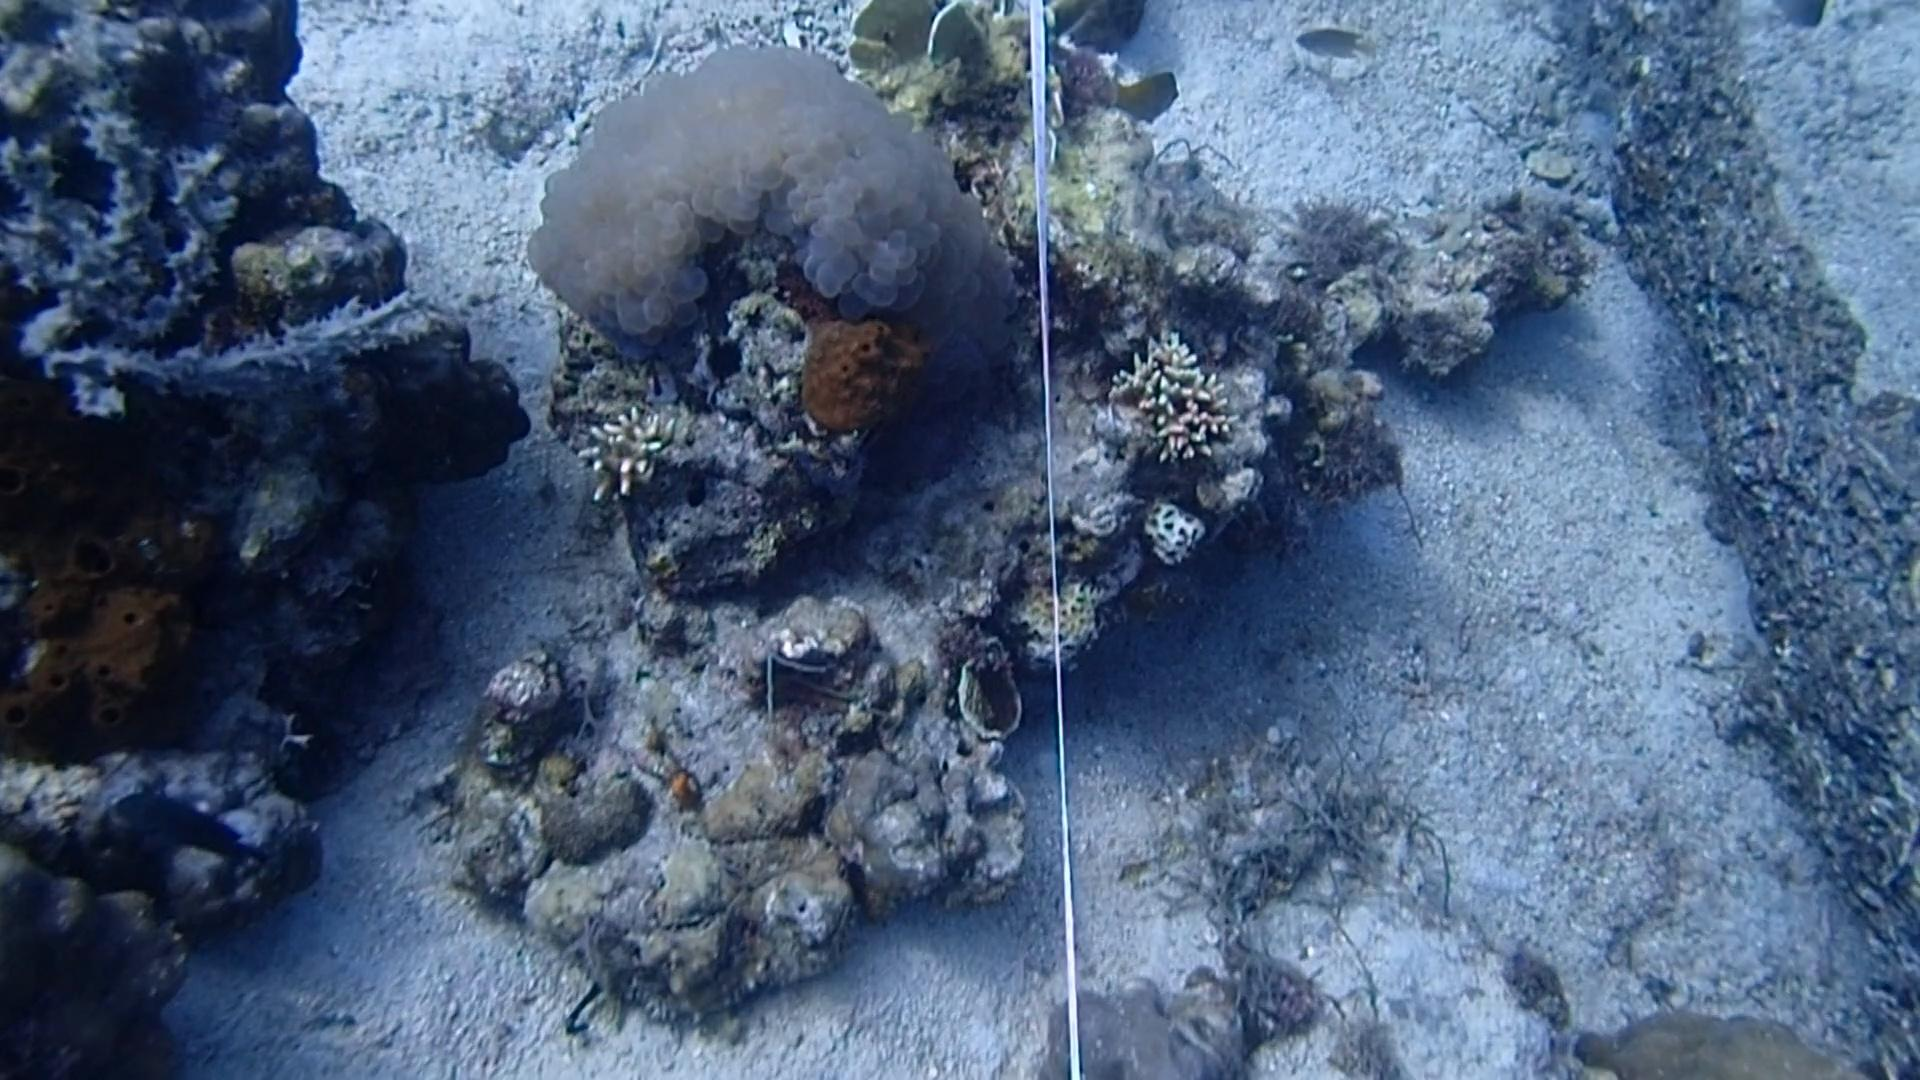Big Dark Blue Fish: (107, 765, 268, 866)
Light Fish: (1294, 15, 1389, 74)
Yellow-Blue Fish: (1101, 63, 1184, 127)
